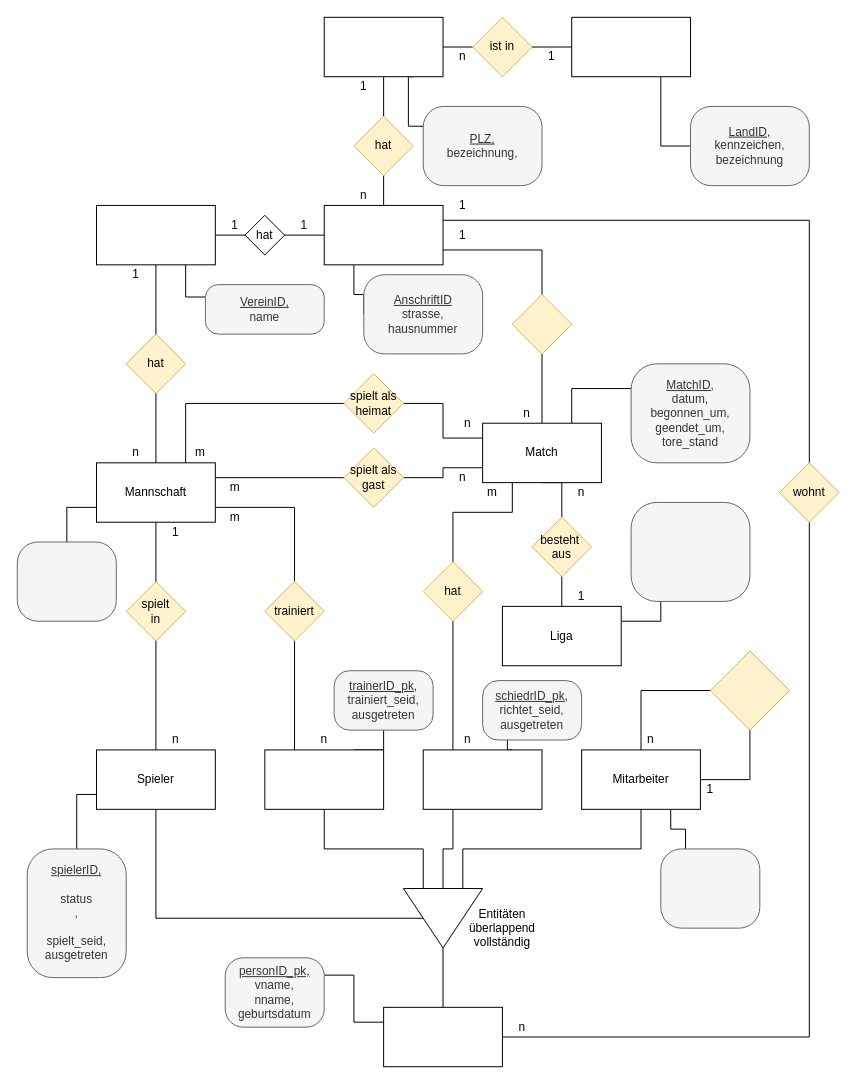
The diagram is 856 pixels wide and 1084 high, and some of its shapes have lost their labels. Each missing label, with the centre of its shape:
Anschrift: the point at 383,234
findet statt: the point at 541,324
is a: the point at 442,918
ist Vorgesetzter: the point at 749,690
Land: the point at 631,46
ligaID, datum_begonnen, datum_geendet, name, altersgruppe, geschlechts_gruppe: the point at 690,551
MannschaftID, name, altersgruppe: the point at 66,581
mitarbeiterID_pk, funktion, richtet_seid, ausgetreten: the point at 710,888
Ort: the point at 383,46
Person: the point at 442,1036
Schiedsrichter: the point at 482,779
Trainer: the point at 324,779
Verein: the point at 155,234
